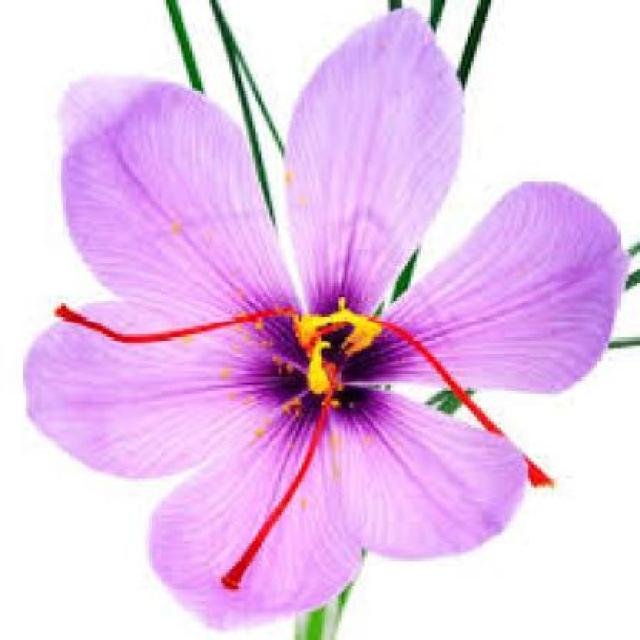Flower: (18, 9, 632, 632)
stigma: (373, 318, 562, 499), (217, 365, 336, 595), (49, 301, 296, 348)
